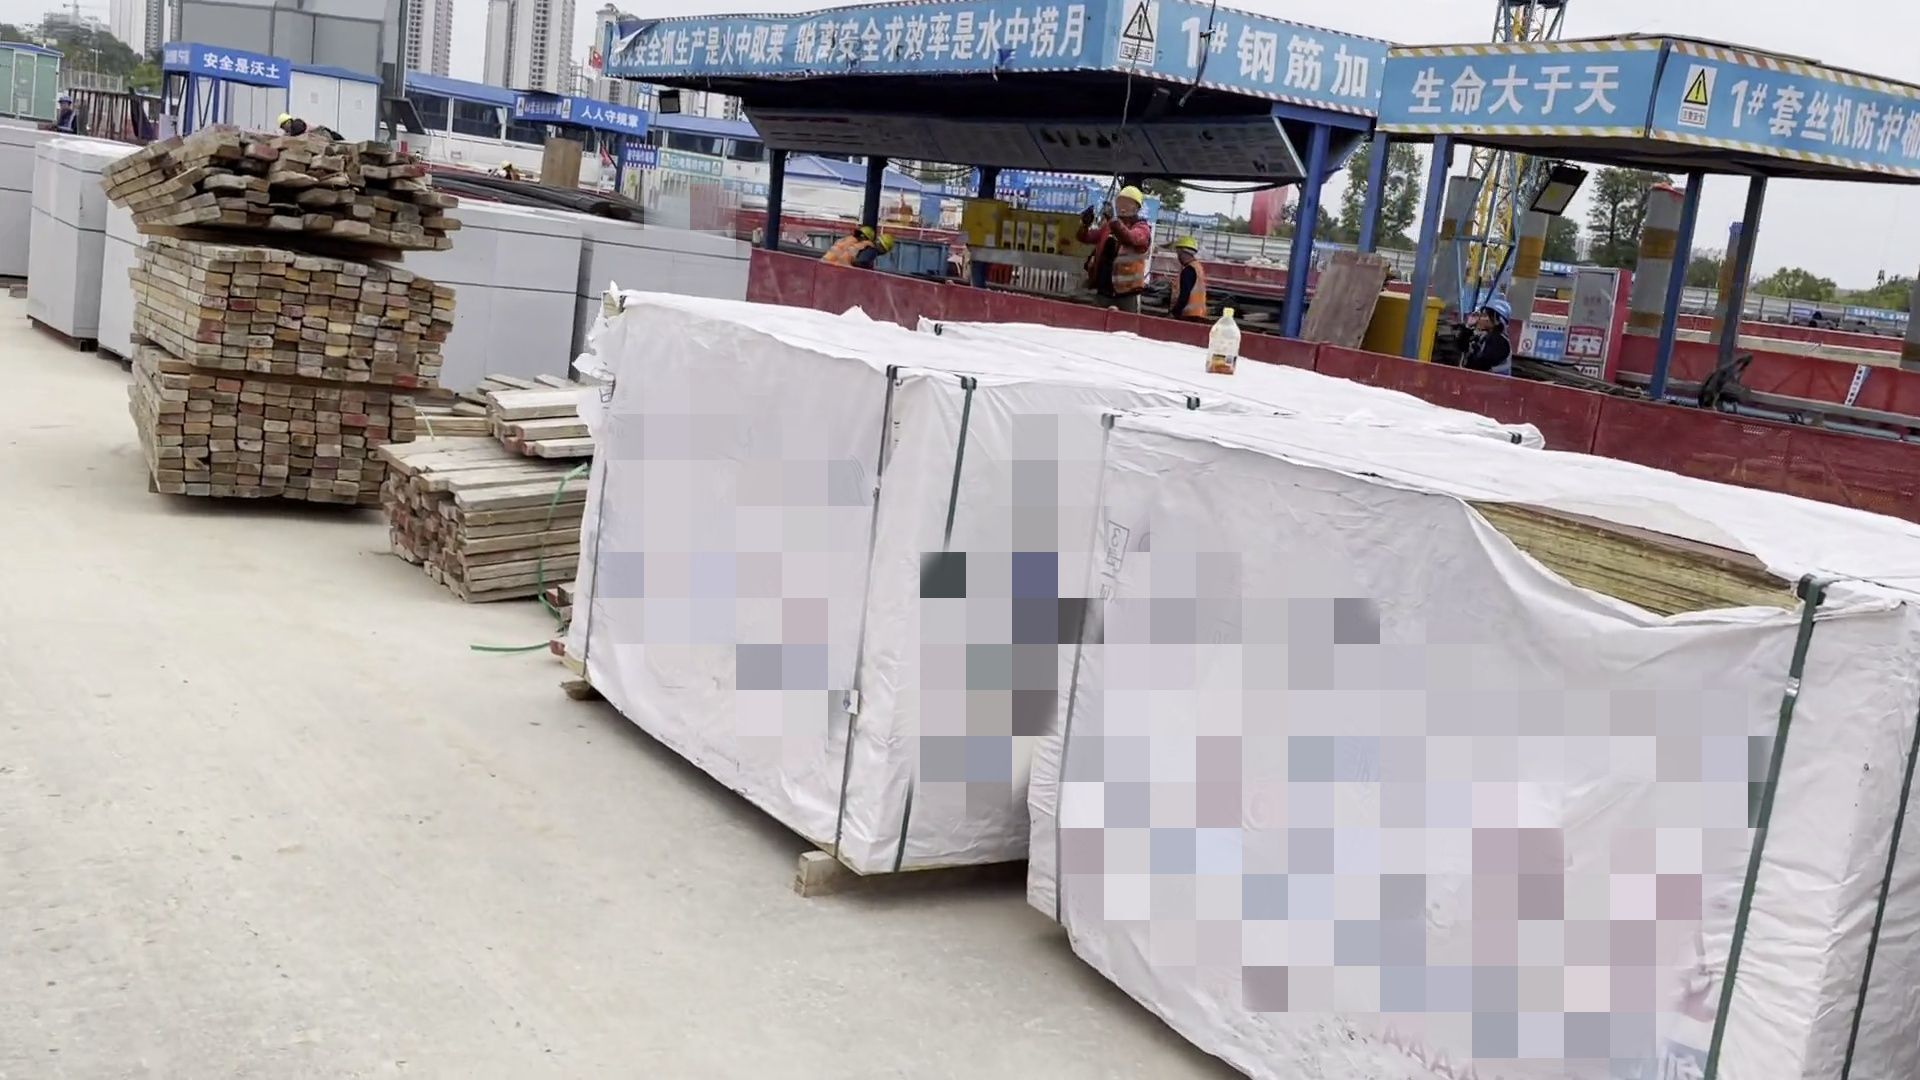person: (1102, 188, 1158, 307), (1173, 238, 1215, 325), (820, 214, 878, 267)
slogan: (612, 3, 1388, 118), (1380, 38, 1920, 166)
vest: (1106, 229, 1158, 303), (1173, 262, 1208, 314)
wood: (99, 144, 493, 585)
